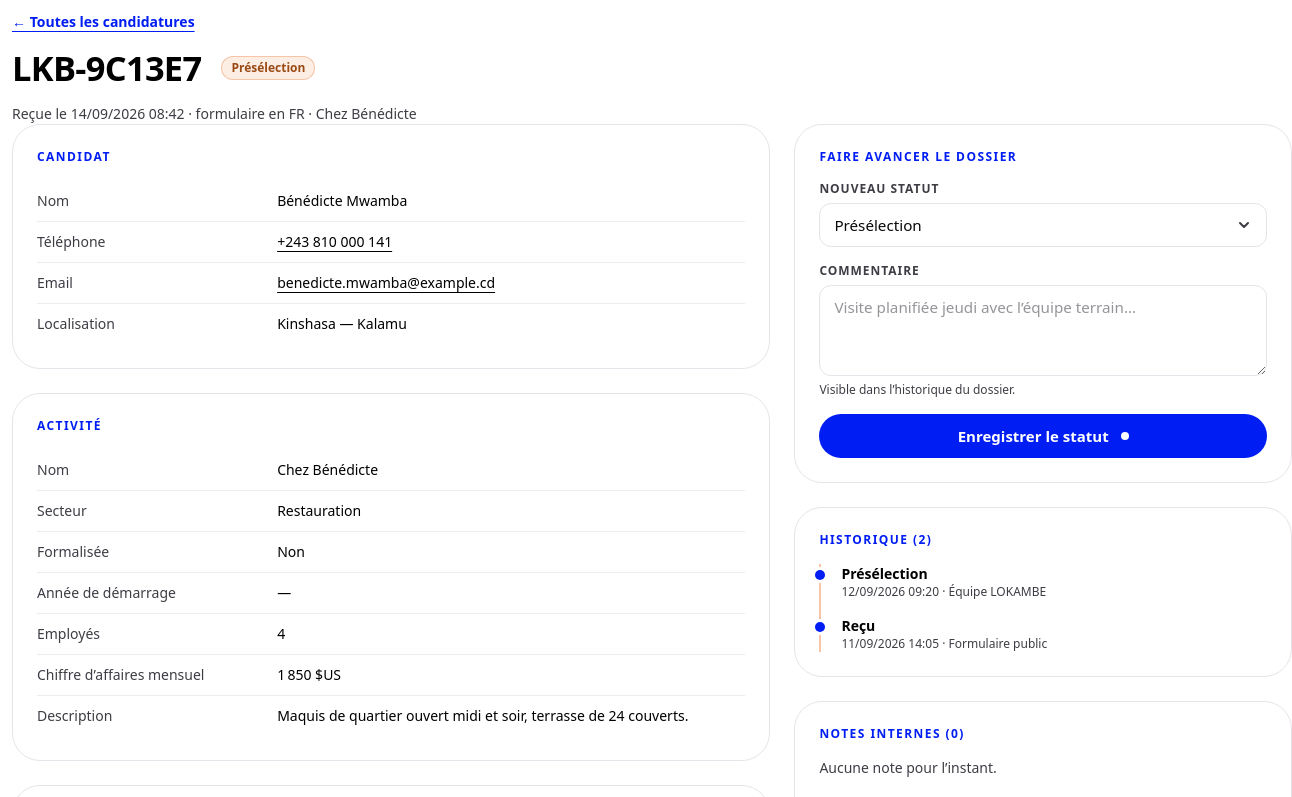
Test: ApplicationDetail › change le statut et affiche le dossier renvoyé par l’API
Step 1. Select "Visite terrain" in the dropdown labelled "Nouveau statut" → (1043, 225), box [819,203,1267,247]
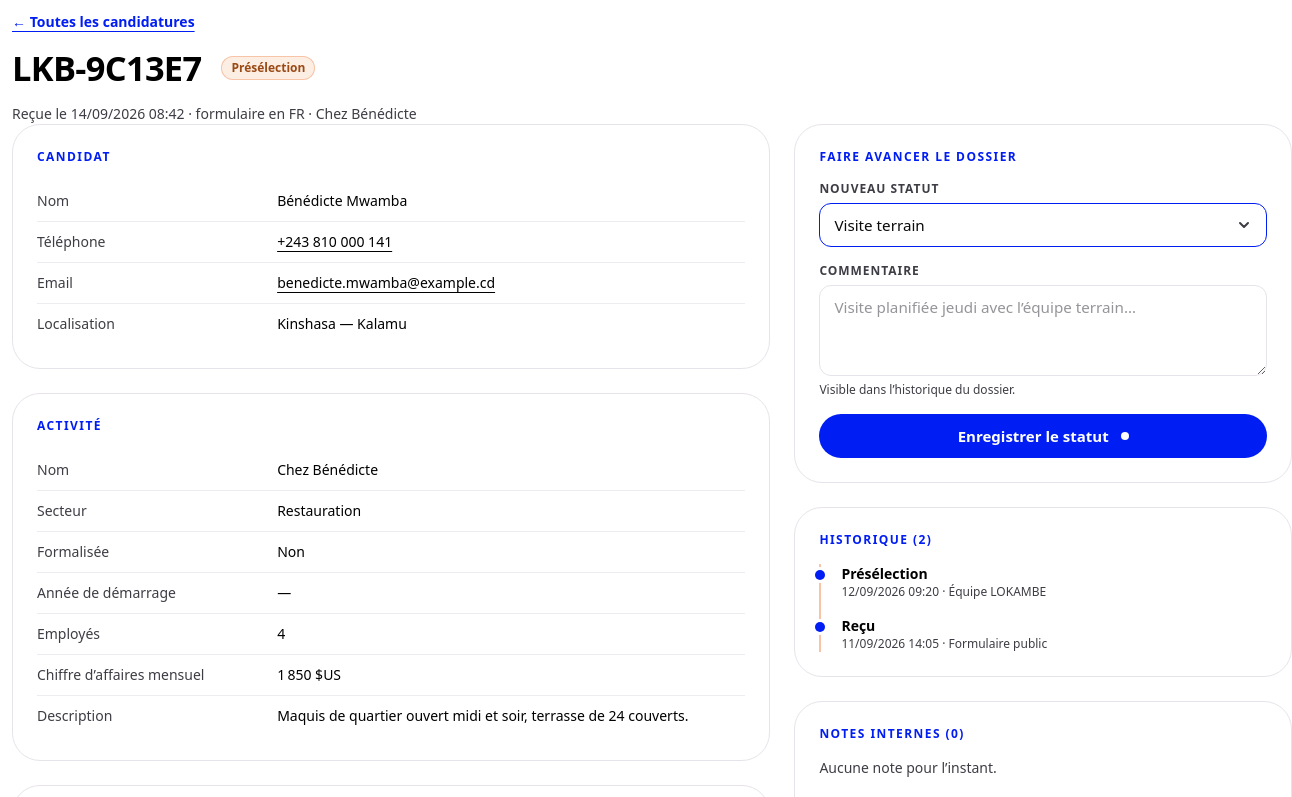
Step 2. Type "Visite planifiée jeudi." into the text box labelled "Commentaire" → (1043, 331), box [819,285,1267,376]
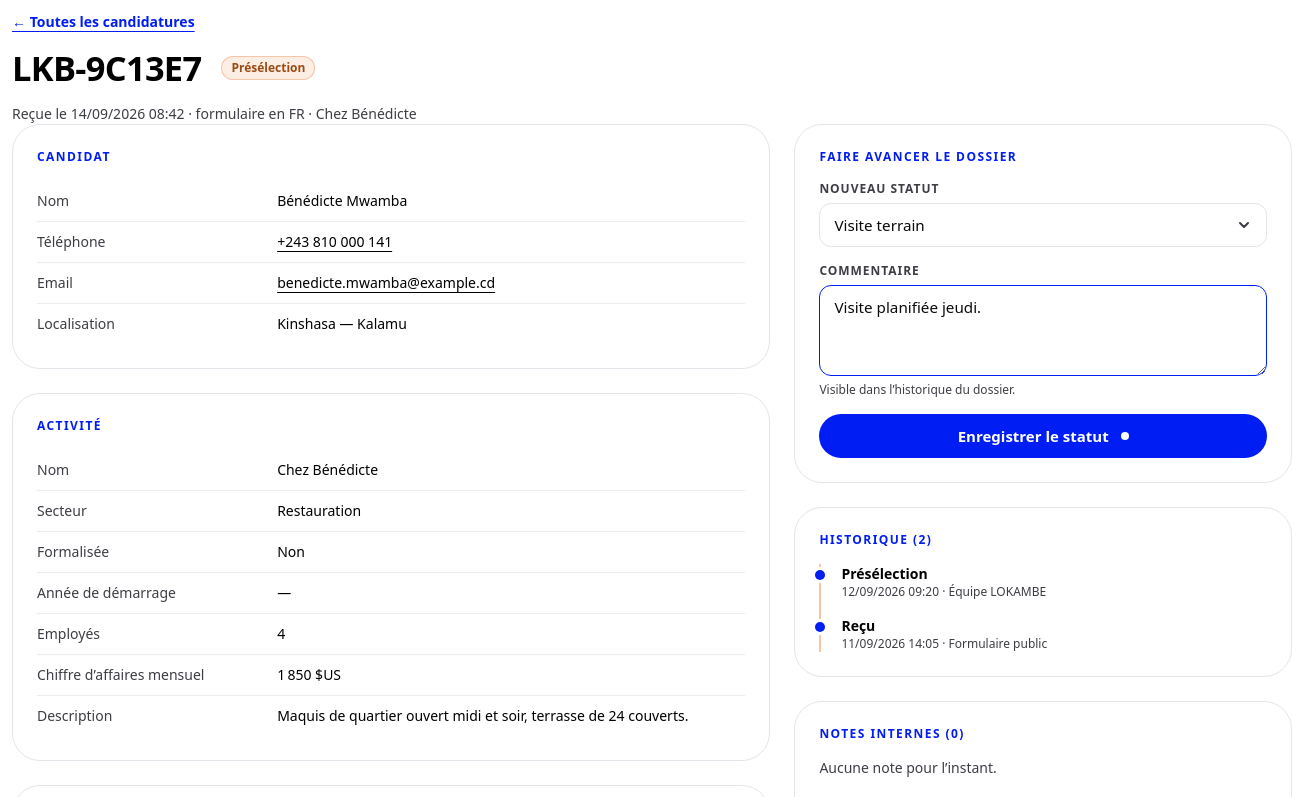
Step 3. Click the button "Enregistrer le statut" → (1043, 436), box [819,414,1267,458]
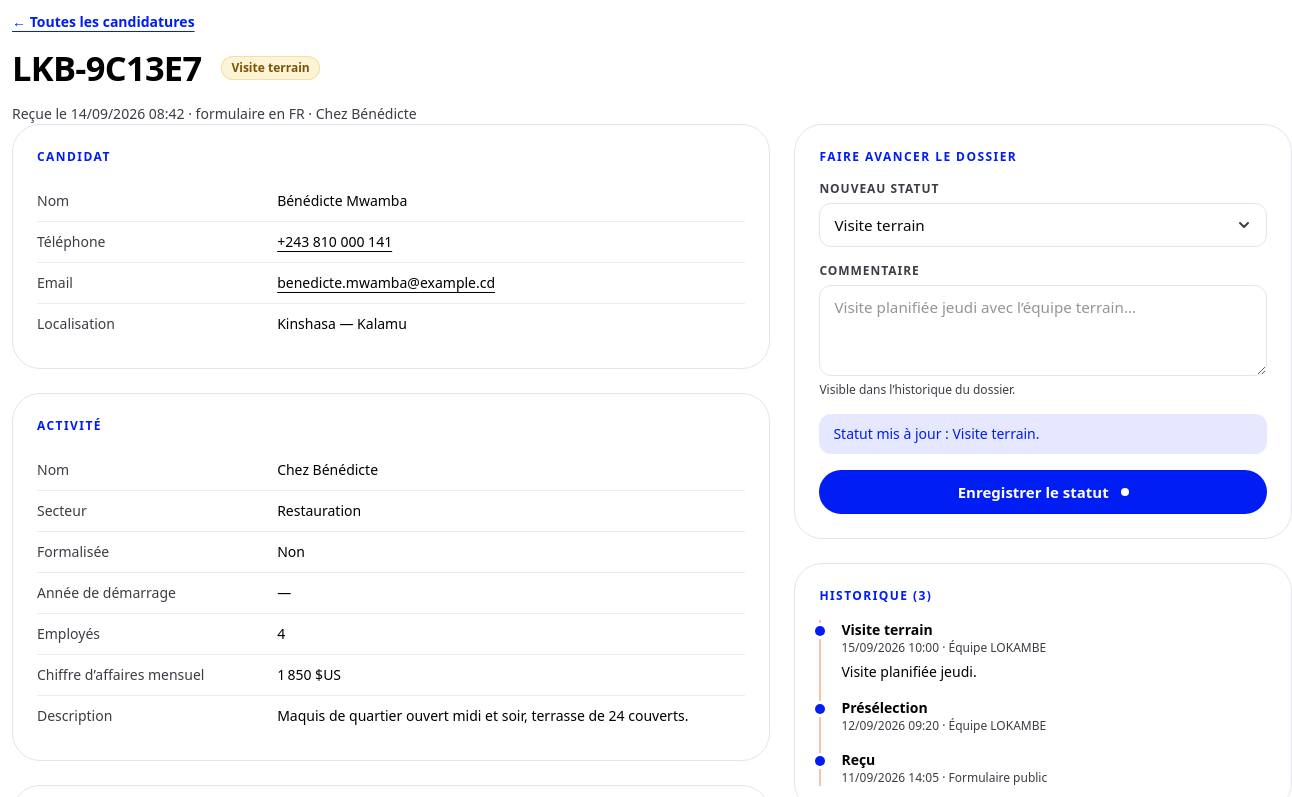
Result: the message reads "Statut mis à jour : Visite terrain." at [833,424,1040,443]
Result: the text "Visite planifiée jeudi." is shown at [841,662,977,681]
Result: the text box labelled "Commentaire" is empty at [819,285,1267,376]
